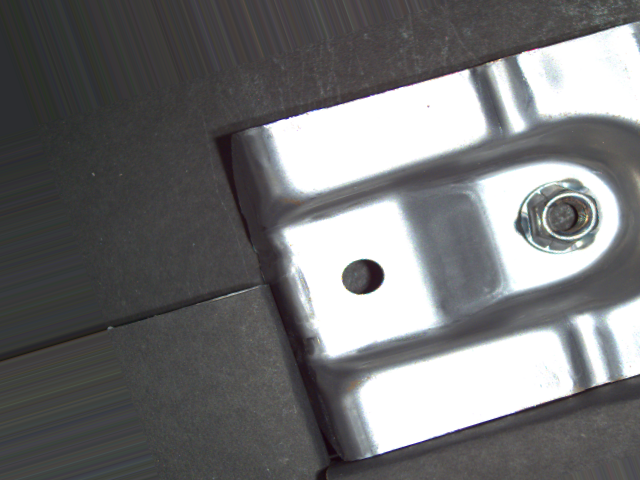good: (512, 176, 605, 255)
